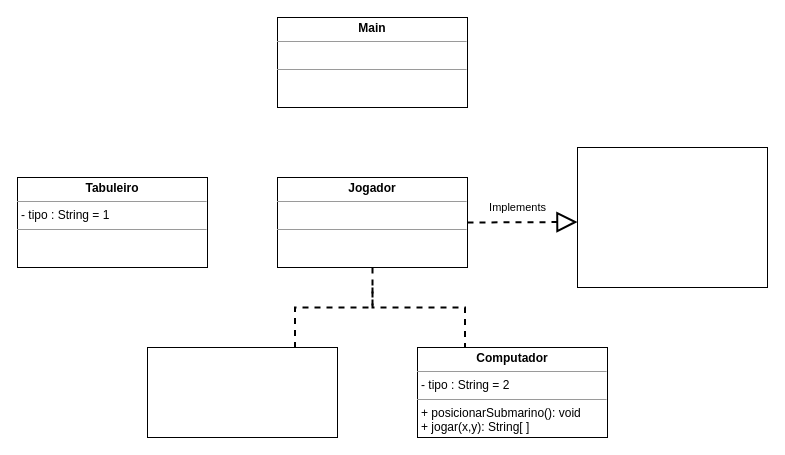
This 785x455 diagram has some shape labels left out. The shapes that lost their labels are listed below. From the top down, each one's centre as x and y in pixels, then its label:
the point at 672,217: <<Interface>> Interface + posicionarSubmarino(): void + jogar(x,y): String[ ]
the point at 242,392: Pessoa - tipo : String = 1
